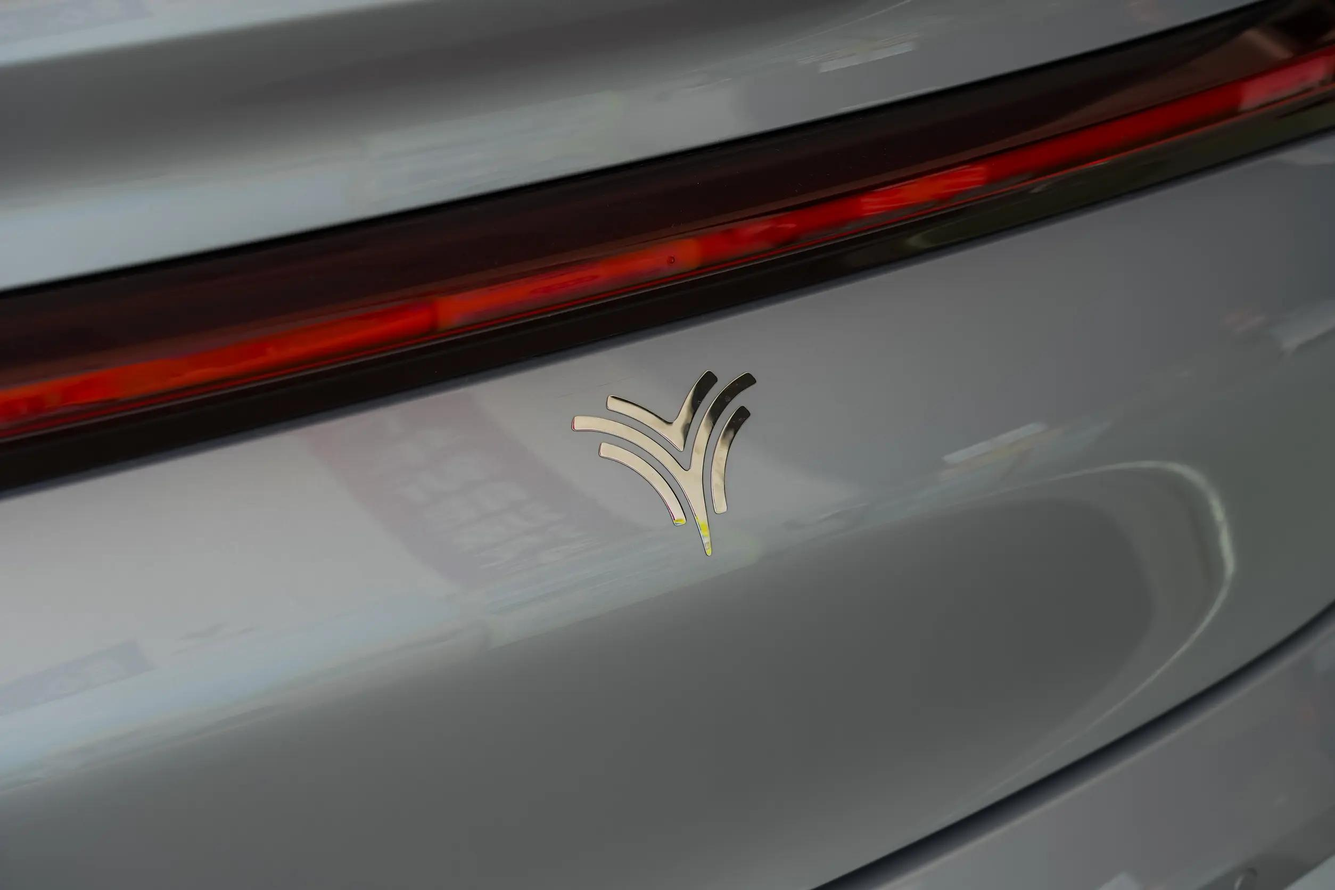NETA: (570, 368, 760, 562)
